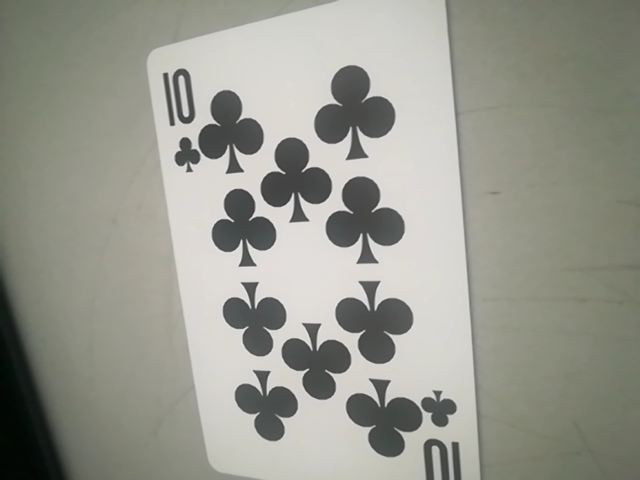mh 10: (142, 5, 484, 472)
